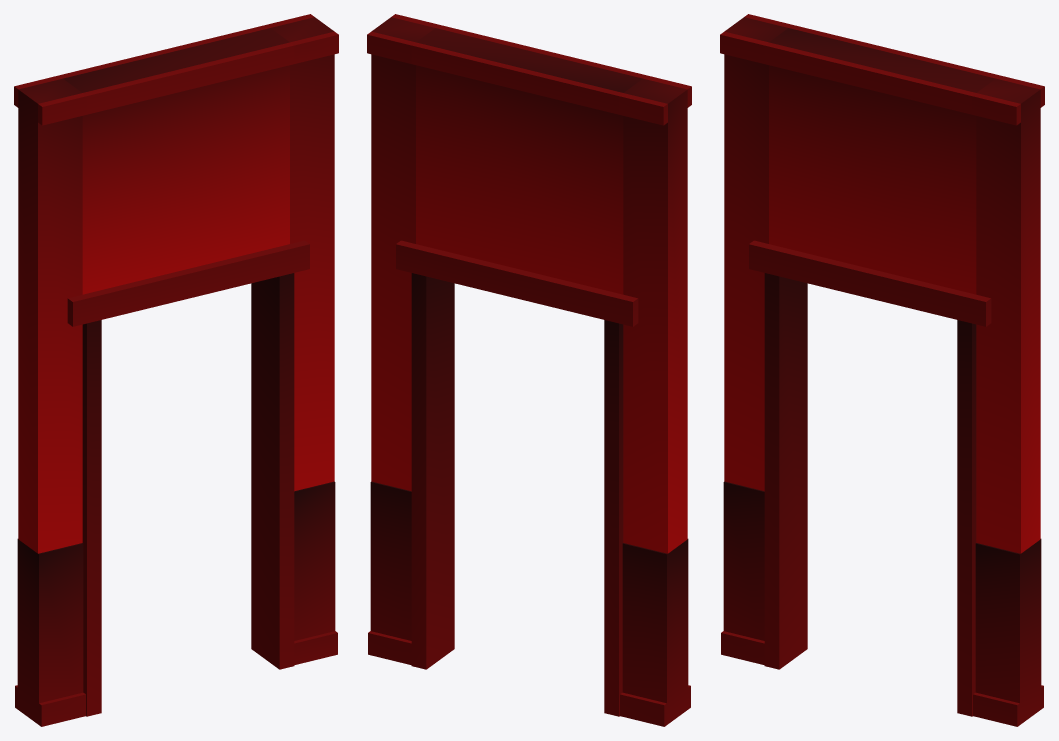
Rendered from wall_door_2m.glb.
The picture shows the model from 3 angles, left to right: view 1: azimuth 30°, elevation 25°; view 2: azimuth 150°, elevation 25°; view 3: azimuth 330°, elevation 25°; orthographic projection.
Parts seen in each view (by area): view 1: wall_door_2m; view 2: wall_door_2m; view 3: wall_door_2m.
Part boxes in pixels (<box>): wall_door_2m: <box>14,14,338,726</box>; wall_door_2m: <box>367,14,691,726</box>; wall_door_2m: <box>720,14,1044,726</box>.
Size of what is drawn, in the model's own units: 2 by 4 by 0.35.
